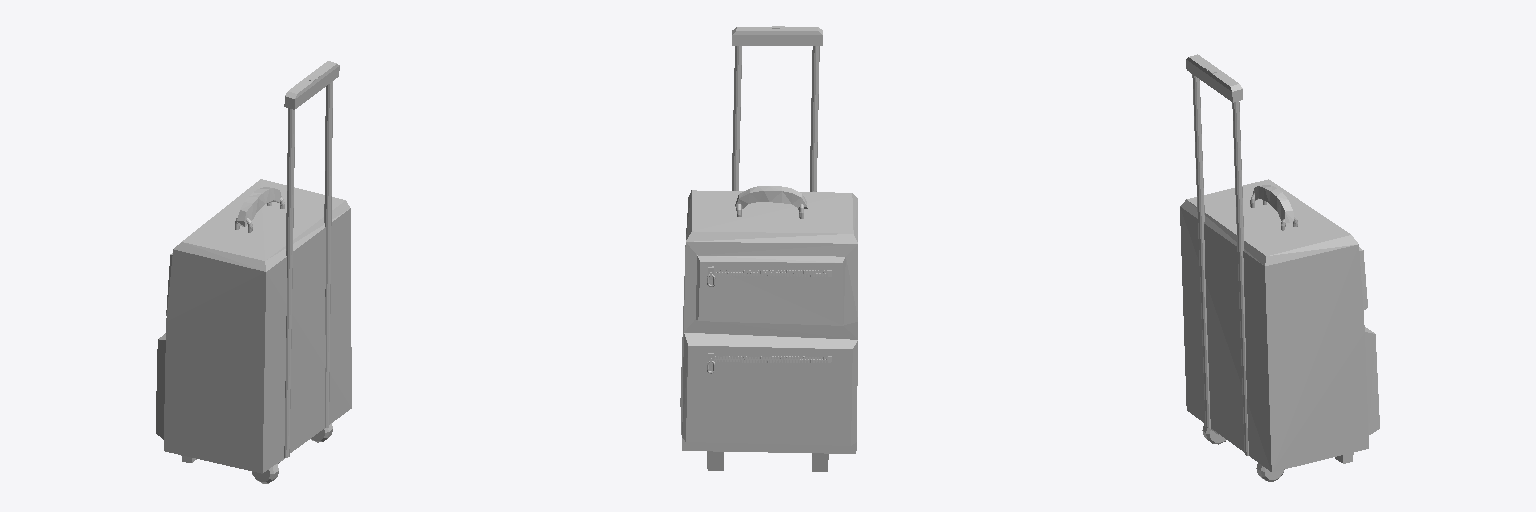
The model's file is suit.obj.
3 renders of one model, left to right at view 1: azimuth 30°, elevation 25°; view 2: azimuth 150°, elevation 25°; view 3: azimuth 270°, elevation 25°, orthographic.
Size of the model in its own units: 1.47 by 3.02 by 1.39.